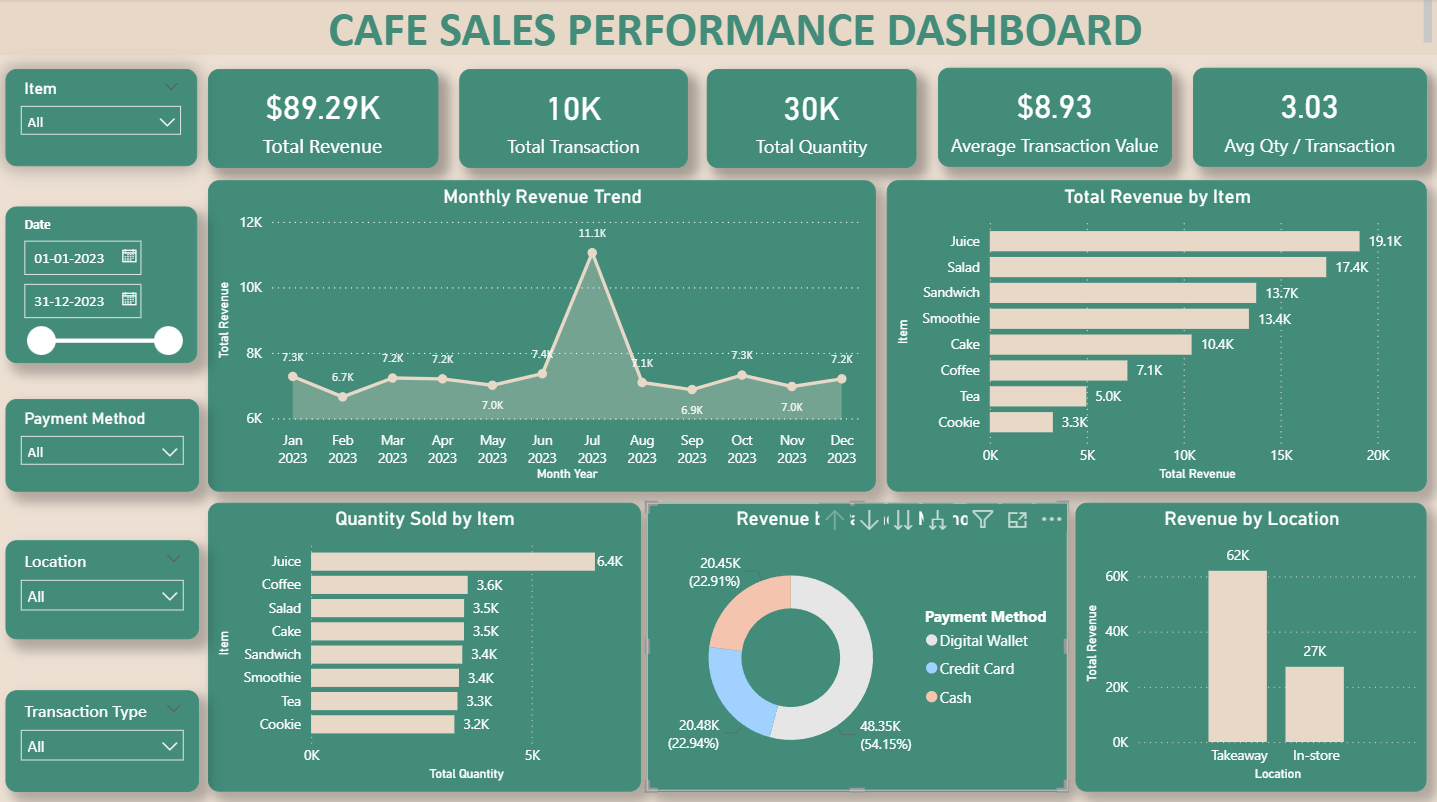

This screenshot's page, from the dashboard's own definition file:
{"tool":"powerbi","page":{"name":"Dashboard","canvas":[1280,720],"ordinal":0},"visuals":[{"type":"textbox","box":[0,0,1280,54.4],"z":0},{"type":"card","fields":{"Values":["CafeSales.Total Revenue"]},"box":[186.7,66.7,204.4,87.8],"z":1000},{"type":"card","fields":{"Values":["CafeSales.Total Quantity"]},"box":[630,66.7,186.7,87.8],"z":2000},{"type":"card","fields":{"Values":["CafeSales.Total Transaction"]},"box":[410,66.7,203.3,87.8],"z":3000},{"type":"card","fields":{"Values":["CafeSales.Average Transaction Value"]},"box":[835.6,65.6,207.8,87.8],"z":4000},{"type":"card","fields":{"Values":["CafeSales.Average Quantity per Transaction"]},"box":[1062.2,65.6,207.8,87.8],"z":5000},{"type":"lineChart","title":"Monthly Revenue Trend","fields":{"Category":["DateTable.Month Year"],"Y":["CafeSales.Total Revenue"]},"box":[186.7,165.6,593.3,276.7],"z":6000},{"type":"clusteredBarChart","fields":{"Category":["CafeSales.Item"],"Y":["CafeSales.Total Revenue"]},"box":[790,165.6,480,276.7],"z":7000},{"type":"clusteredBarChart","title":"Quantity Sold by Item","fields":{"Category":["CafeSales.Item"],"Y":["CafeSales.Total Quantity"]},"box":[186.7,452.2,384.4,256.7],"z":8000},{"type":"donutChart","title":"Revenue by Payment Method","fields":{"Category":["CafeSales.Payment Method","CafeSales.Location"],"Y":["CafeSales.Total Revenue"]},"box":[576.7,452.2,374.4,256.7],"z":9000},{"type":"clusteredColumnChart","title":"Revenue by Location","fields":{"Category":["CafeSales.Location"],"Y":["CafeSales.Total Revenue"]},"box":[957.8,452.2,312.2,256.7],"z":10000},{"type":"slicer","fields":{"Values":["CafeSales.Item"]},"box":[6.7,66.7,170,86.7],"z":11000},{"type":"slicer","fields":{"Values":["DateTable.Date"]},"box":[6.7,188.9,170,138.9],"z":12000},{"type":"slicer","fields":{"Values":["CafeSales.Payment Method"]},"box":[6.7,360,172.2,82.2],"z":13000},{"type":"slicer","fields":{"Values":["CafeSales.Location"]},"box":[6.7,488.9,172.2,87.8],"z":14000},{"type":"slicer","fields":{"Values":["CafeSales.Transaction Type"]},"box":[6.7,621.1,172.2,87.8],"z":15000}]}

Visuals, with their boxes in screenshot pixels (x1, y1, x2, y2), scaled from the page's 1280x720 canvas onto the 1437x802 screenshot:
textbox: left=0, top=0, right=1436, bottom=61
card - CafeSales.Total Revenue: left=210, top=74, right=439, bottom=172
card - CafeSales.Total Quantity: left=707, top=74, right=917, bottom=172
card - CafeSales.Total Transaction: left=460, top=74, right=689, bottom=172
card - CafeSales.Average Transaction Value: left=938, top=73, right=1171, bottom=171
card - CafeSales.Average Quantity per Transaction: left=1192, top=73, right=1426, bottom=171
"Monthly Revenue Trend" lineChart: left=210, top=184, right=876, bottom=493
clusteredBarChart - CafeSales.Item x CafeSales.Total Revenue: left=887, top=184, right=1426, bottom=493
"Quantity Sold by Item" clusteredBarChart: left=210, top=504, right=641, bottom=790
"Revenue by Payment Method" donutChart: left=647, top=504, right=1068, bottom=790
"Revenue by Location" clusteredColumnChart: left=1075, top=504, right=1426, bottom=790
slicer - CafeSales.Item: left=8, top=74, right=198, bottom=171
slicer - DateTable.Date: left=8, top=210, right=198, bottom=365
slicer - CafeSales.Payment Method: left=8, top=401, right=201, bottom=493
slicer - CafeSales.Location: left=8, top=545, right=201, bottom=642
slicer - CafeSales.Transaction Type: left=8, top=692, right=201, bottom=790
